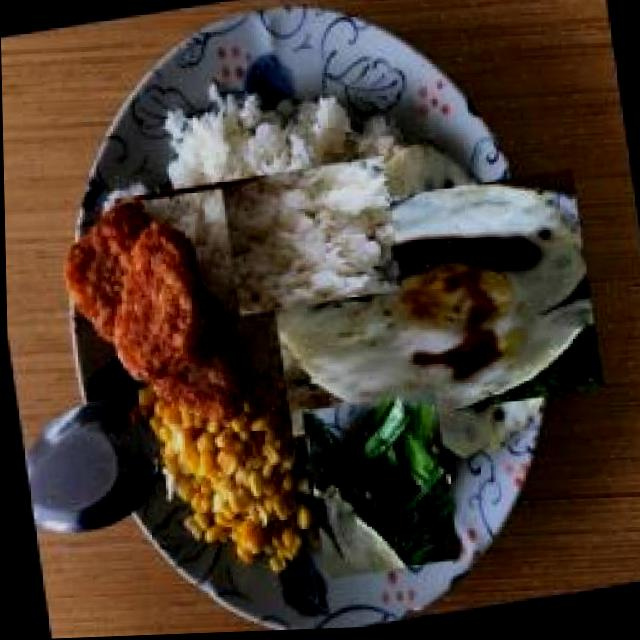fried_eggs: (280, 153, 583, 460)
rice: (142, 129, 374, 364)
triangle_hash_brown: (56, 190, 254, 443)
water_spinach: (300, 392, 458, 581)
